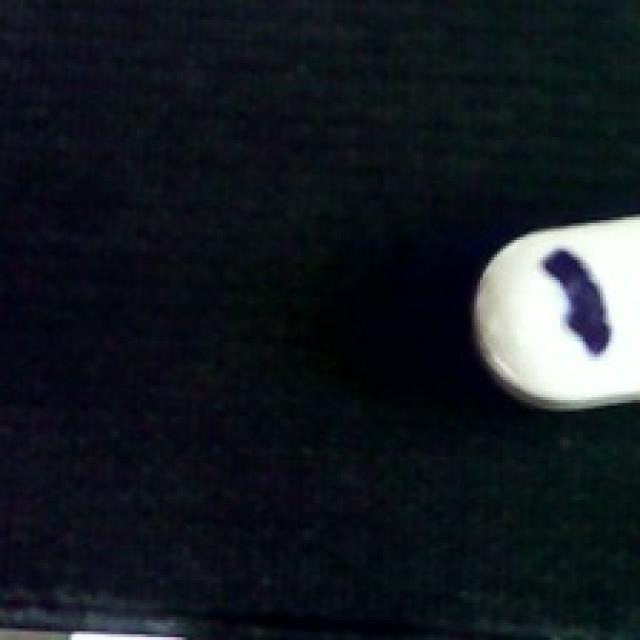defected: (468, 207, 640, 413)
